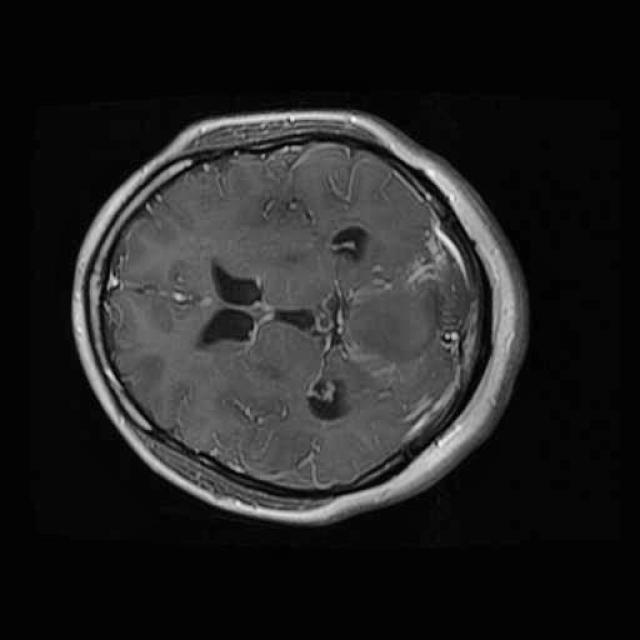Tumor: (324, 222, 496, 404)
